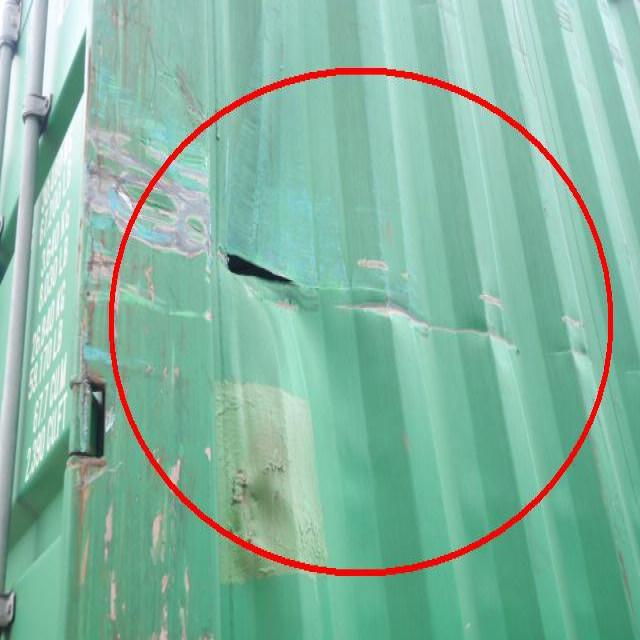dent: (320, 256, 640, 396)
